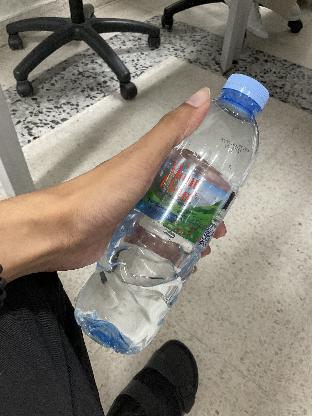Plastic Bottle: (65, 63, 294, 360)
